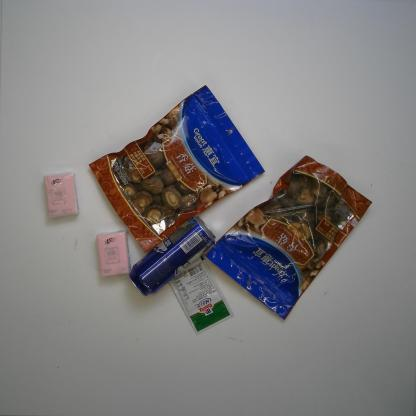Alcohol: (127, 215, 217, 298)
Dried Food: (88, 84, 266, 254), (204, 154, 375, 321)
Seasoner: (168, 254, 235, 336)
Tissue: (94, 227, 133, 278), (43, 171, 82, 218)
